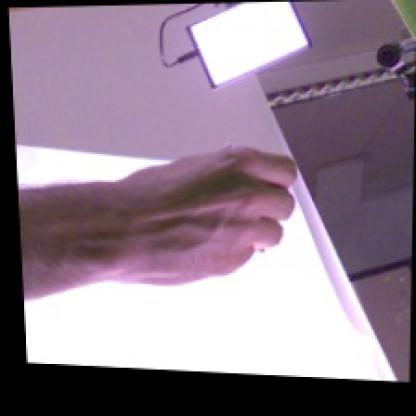Hand: (119, 145, 299, 286)
